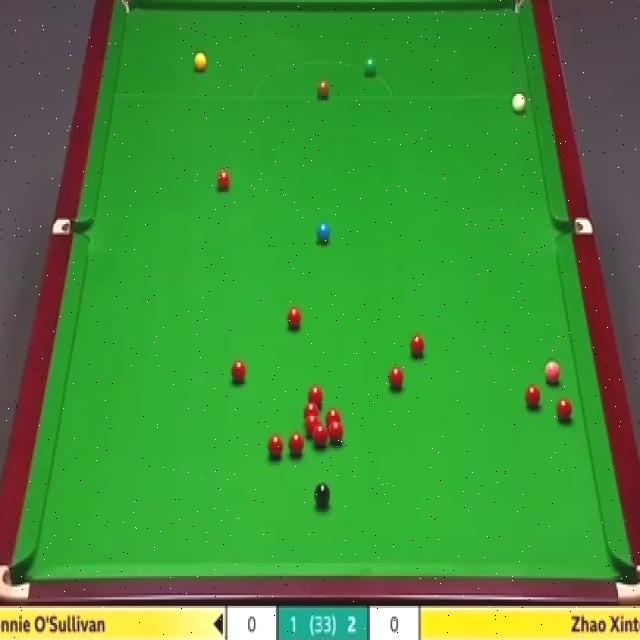black-ball: (313, 482, 331, 505)
blue-ball: (318, 222, 331, 243)
brown-ball: (316, 79, 329, 100)
green-ball: (364, 54, 376, 76)
pink-ball: (543, 360, 562, 385)
red-ball: (266, 433, 284, 459), (525, 382, 541, 409), (555, 397, 573, 421), (286, 306, 302, 331), (408, 333, 425, 356), (329, 419, 344, 445), (230, 358, 246, 382), (289, 432, 304, 457), (307, 384, 323, 407), (388, 366, 403, 389), (313, 424, 328, 447), (302, 402, 319, 421), (305, 415, 319, 436), (325, 407, 342, 423), (218, 168, 230, 190)
white-ball: (512, 92, 525, 113)
yellow-ball: (194, 52, 206, 74)
